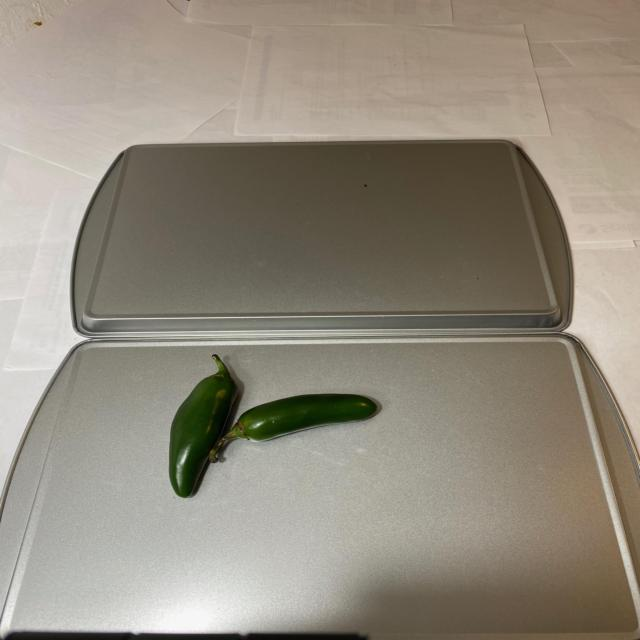chilli: (172, 353, 380, 497)
